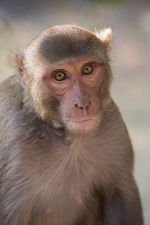monkey: (8, 12, 131, 211)
